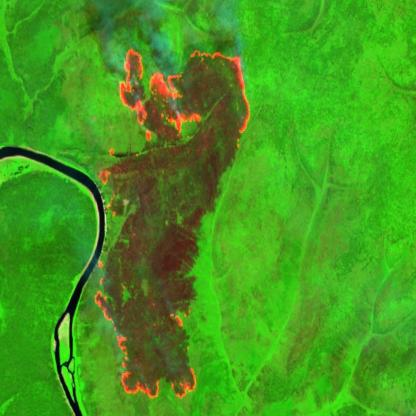fire: (92, 40, 262, 408)
